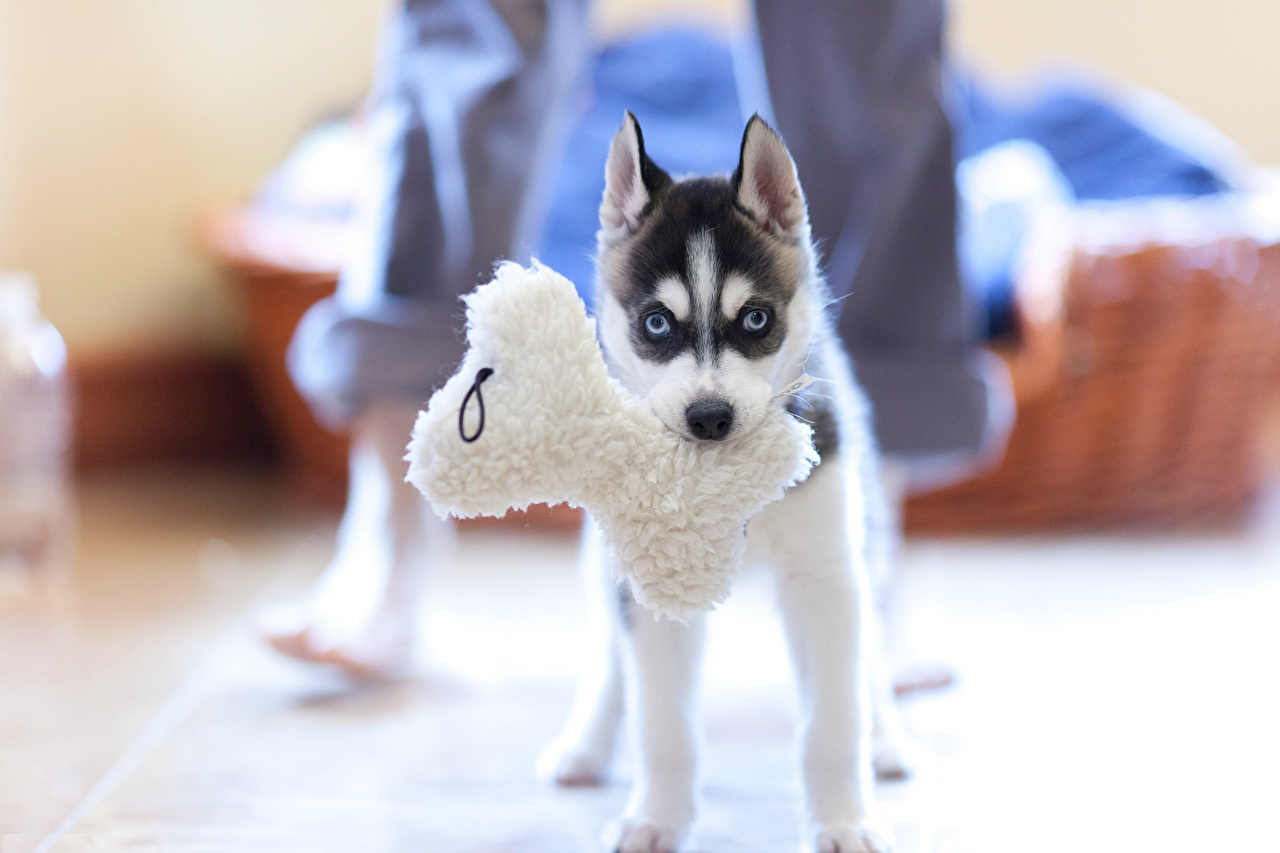husky: (577, 96, 909, 702)
